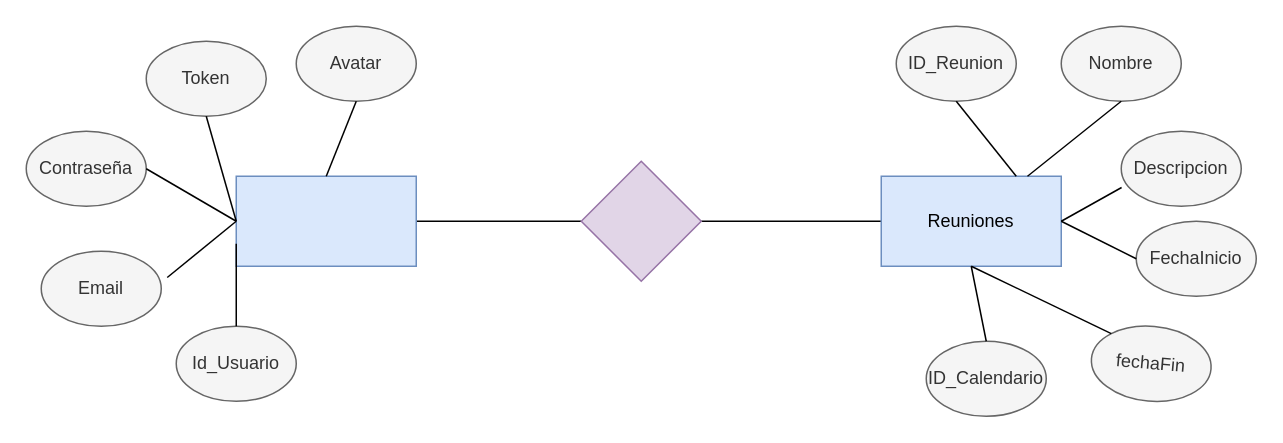
This 1283x443 diagram has some shape labels left out. The shapes that lost their labels are listed below. From the top down, each one's box as (x1, y1, x2, y2) in pixels, then its label:
(235, 175, 416, 266): Usuarios
(580, 160, 701, 281): crea
